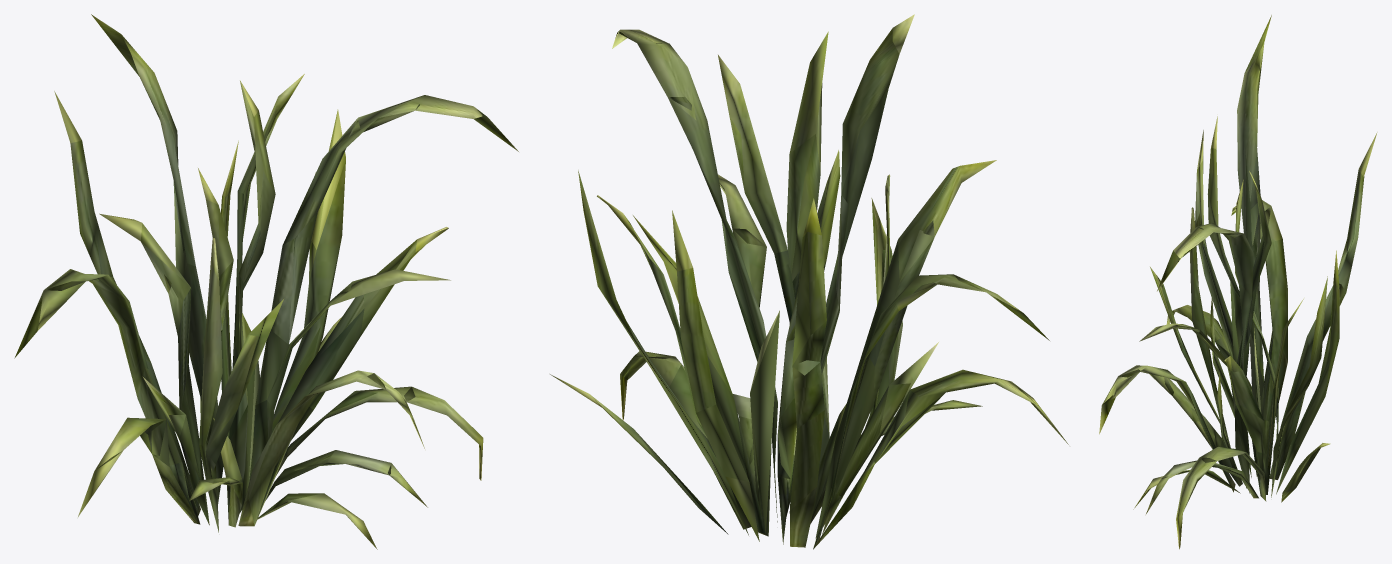
Rendered from grass_b.glb.
3 views of the same model, side by side, from view 1: azimuth 30°, elevation 25°; view 2: azimuth 150°, elevation 25°; view 3: azimuth 270°, elevation 25° (orthographic). The views are drawn at different scales.
Parts seen in each view (by area): view 1: tripo_node_65007d5c-0feb-434b-be1f-9dfa55be2754; view 2: tripo_node_65007d5c-0feb-434b-be1f-9dfa55be2754; view 3: tripo_node_65007d5c-0feb-434b-be1f-9dfa55be2754.
Part boxes in pixels (left/top/right/bottom): tripo_node_65007d5c-0feb-434b-be1f-9dfa55be2754: left=14, top=14, right=518, bottom=549; tripo_node_65007d5c-0feb-434b-be1f-9dfa55be2754: left=550, top=14, right=1068, bottom=549; tripo_node_65007d5c-0feb-434b-be1f-9dfa55be2754: left=1099, top=15, right=1377, bottom=549.
Size of the model in its own units: 0.2891 by 0.32 by 0.1895.
Materials: 1 (1 with a texture image).
